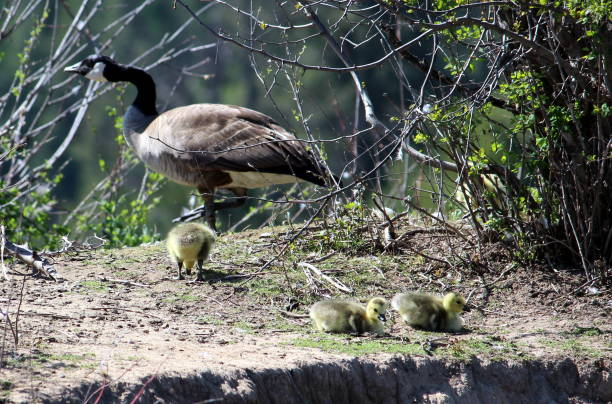goose: (61, 52, 346, 226)
